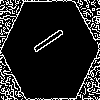I: (25, 25, 65, 61)
